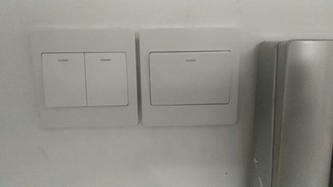switch: (147, 48, 232, 107), (39, 49, 87, 109), (86, 49, 130, 108)
